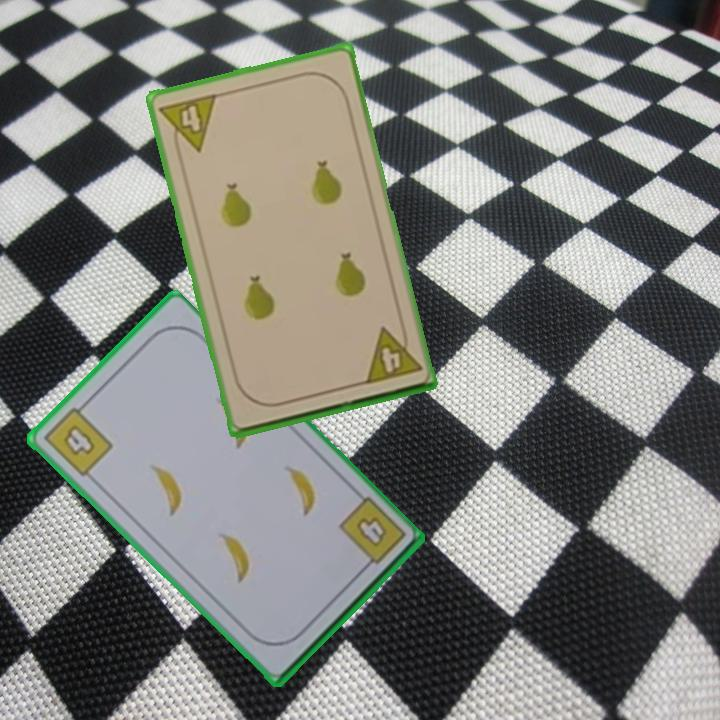4b: (40, 398, 116, 481), (335, 493, 409, 576)
4p: (156, 90, 220, 159), (360, 320, 424, 387)
